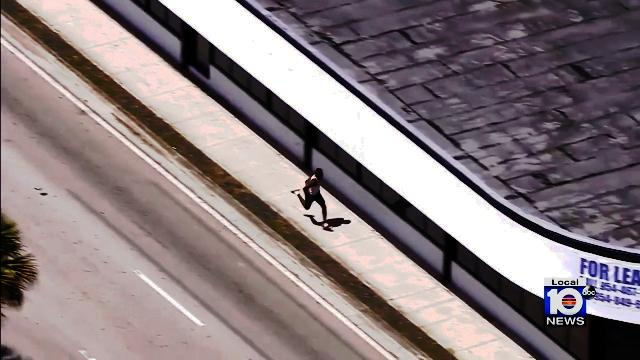berlari: (291, 168, 333, 234)
